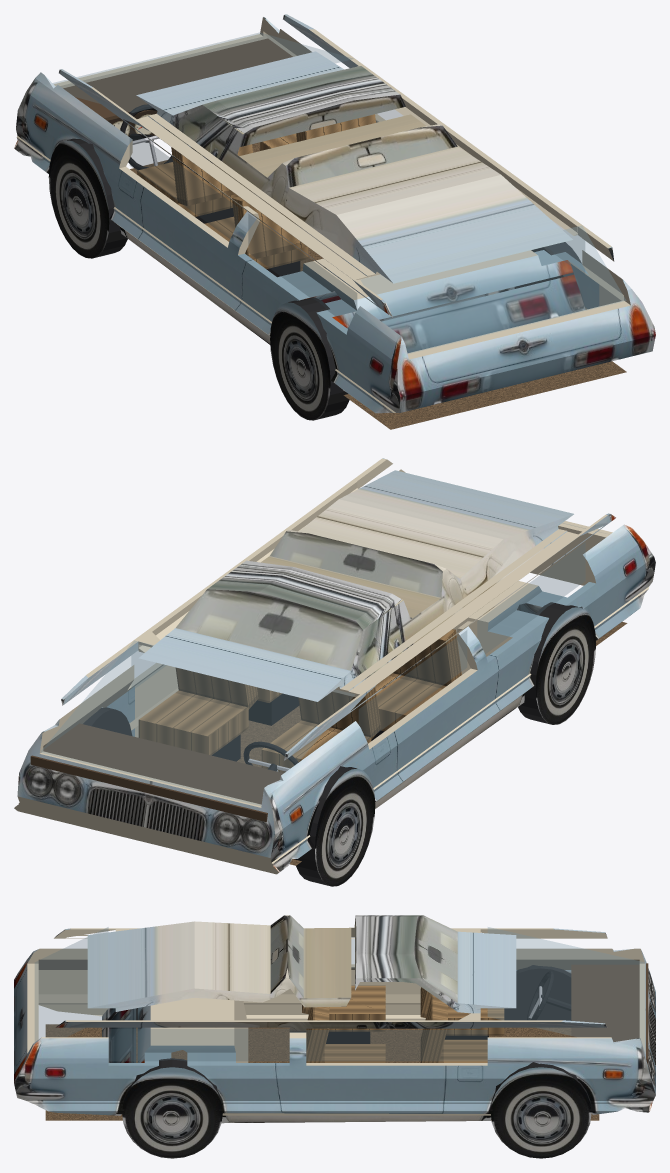
File: convertible.glb
The picture shows the model from 3 angles, top to bottom: view 1: azimuth 30°, elevation 25°; view 2: azimuth 150°, elevation 25°; view 3: azimuth 270°, elevation 25°; orthographic projection. The views are drawn at different scales.
Visible parts, largest first — view 1: convertible, convertible_cabin, wheel_BL, wheel_FL; view 2: convertible, convertible_cabin, wheel_BL, wheel_FL, wheel_FR; view 3: convertible, convertible_cabin, wheel_BR, wheel_FR, wheel_FL.
Boxes of the visible parts, x1=… form: convertible: x1=14, y1=14, x2=655, y2=413; convertible_cabin: x1=53, y1=32, x2=626, y2=429; wheel_BL: x1=270, y1=297, x2=349, y2=420; wheel_FL: x1=48, y1=138, x2=127, y2=258; convertible: x1=14, y1=458, x2=655, y2=874; convertible_cabin: x1=30, y1=523, x2=627, y2=865; wheel_BL: x1=518, y1=602, x2=595, y2=724; wheel_FL: x1=294, y1=766, x2=375, y2=886; wheel_FR: x1=83, y1=707, x2=132, y2=735; convertible: x1=14, y1=915, x2=655, y2=1123; convertible_cabin: x1=35, y1=927, x2=648, y2=1120; wheel_BR: x1=122, y1=1058, x2=222, y2=1158; wheel_FR: x1=490, y1=1062, x2=591, y2=1158; wheel_FL: x1=504, y1=965, x2=571, y2=1020.
Bounding box in the file's own units: 1.83 × 1.29 × 4.6.
11 materials, 4 textured.
